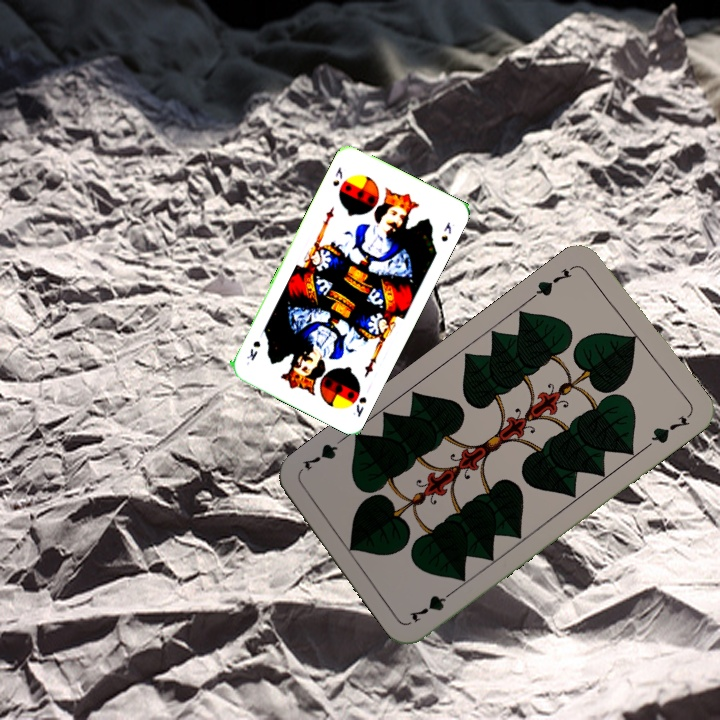G7: (405, 584, 459, 625), (528, 261, 580, 301)
SK: (349, 392, 369, 420), (329, 163, 345, 189)
